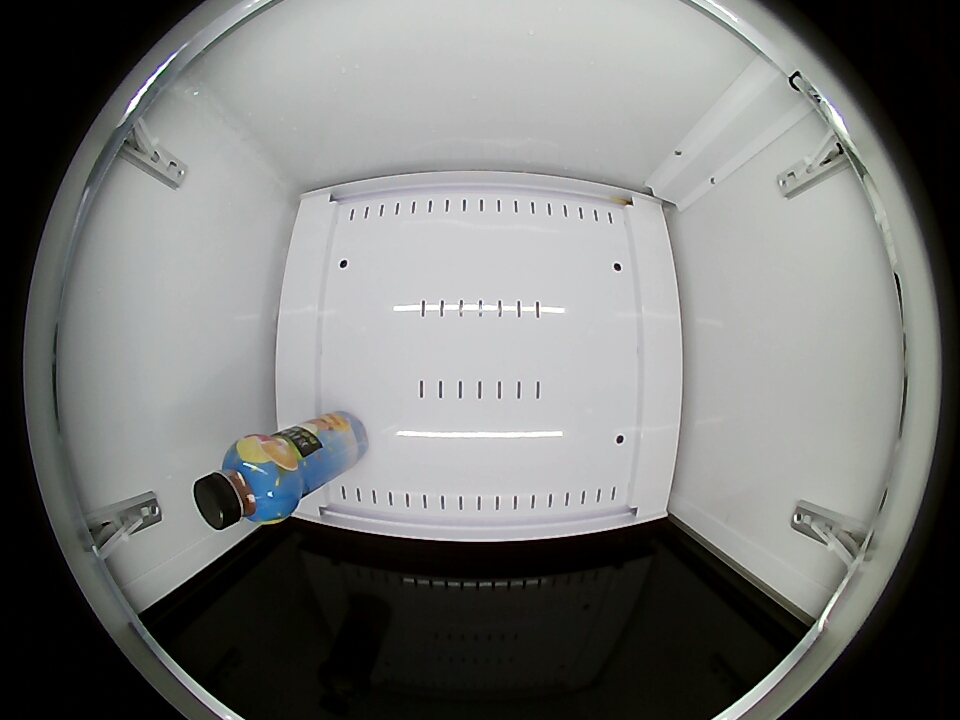guolicheng2: (193, 438, 296, 530)
